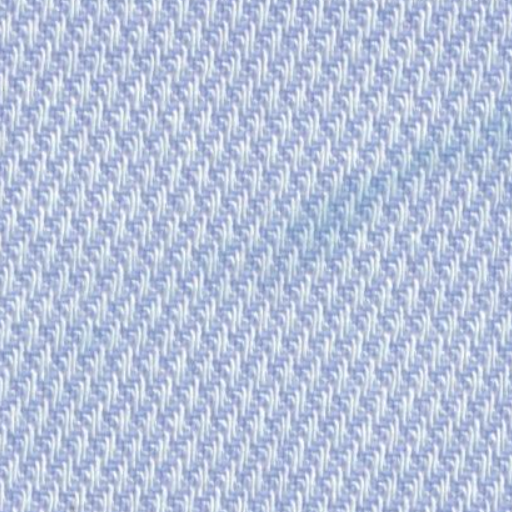WuZi: (256, 99, 496, 274)
